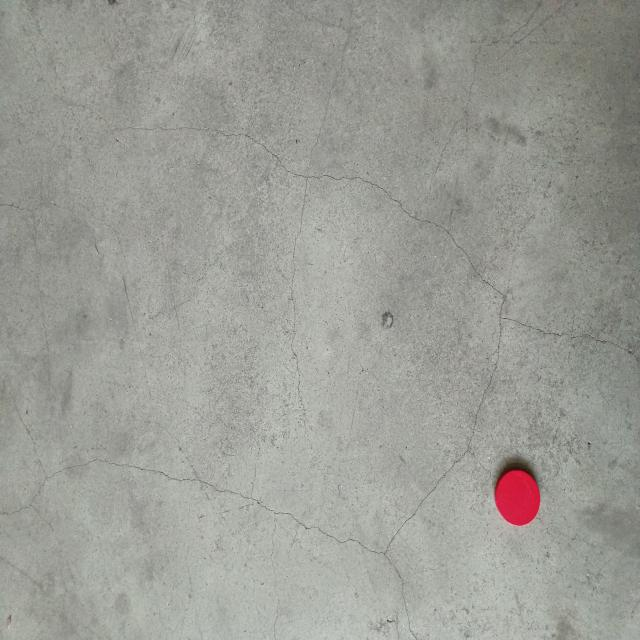chip: (495, 465, 542, 529)
